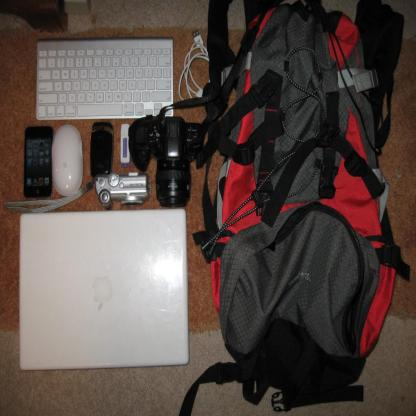board: (14, 204, 194, 384)
